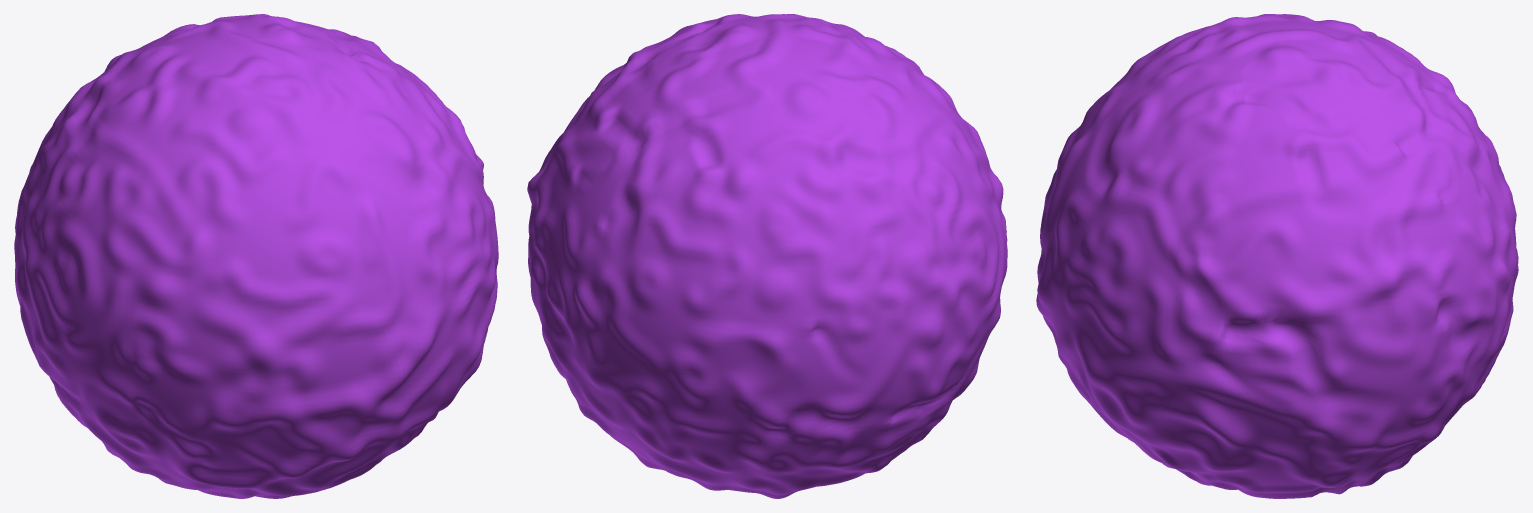
Rendered from virus_D_2.glb.
3 renders of one model, left to right at view 1: azimuth 30°, elevation 25°; view 2: azimuth 150°, elevation 25°; view 3: azimuth 270°, elevation 25°, orthographic.
Visible parts, largest first — view 1: Esfera; view 2: Esfera; view 3: Esfera.
Boxes of the visible parts, box(x1,y1,x2,y2) form: Esfera: box(14, 14, 498, 498); Esfera: box(527, 14, 1007, 498); Esfera: box(1036, 14, 1518, 498).
Bounding box in the file's own units: 4.15 × 4.18 × 4.16.
